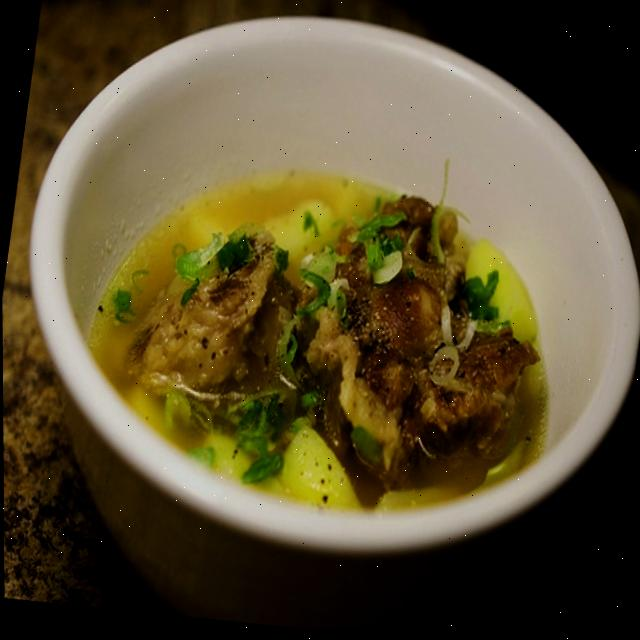汤锅炖物: (10, 31, 639, 599)
